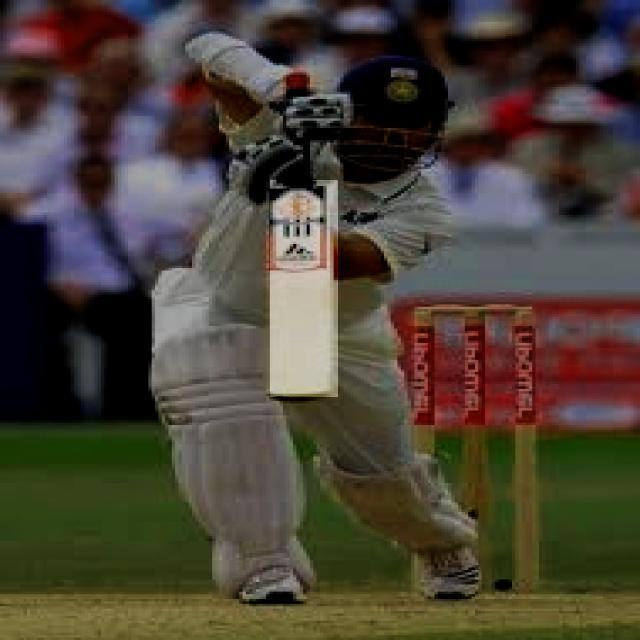bat: (268, 178, 338, 407)
toe: (269, 390, 338, 403)
